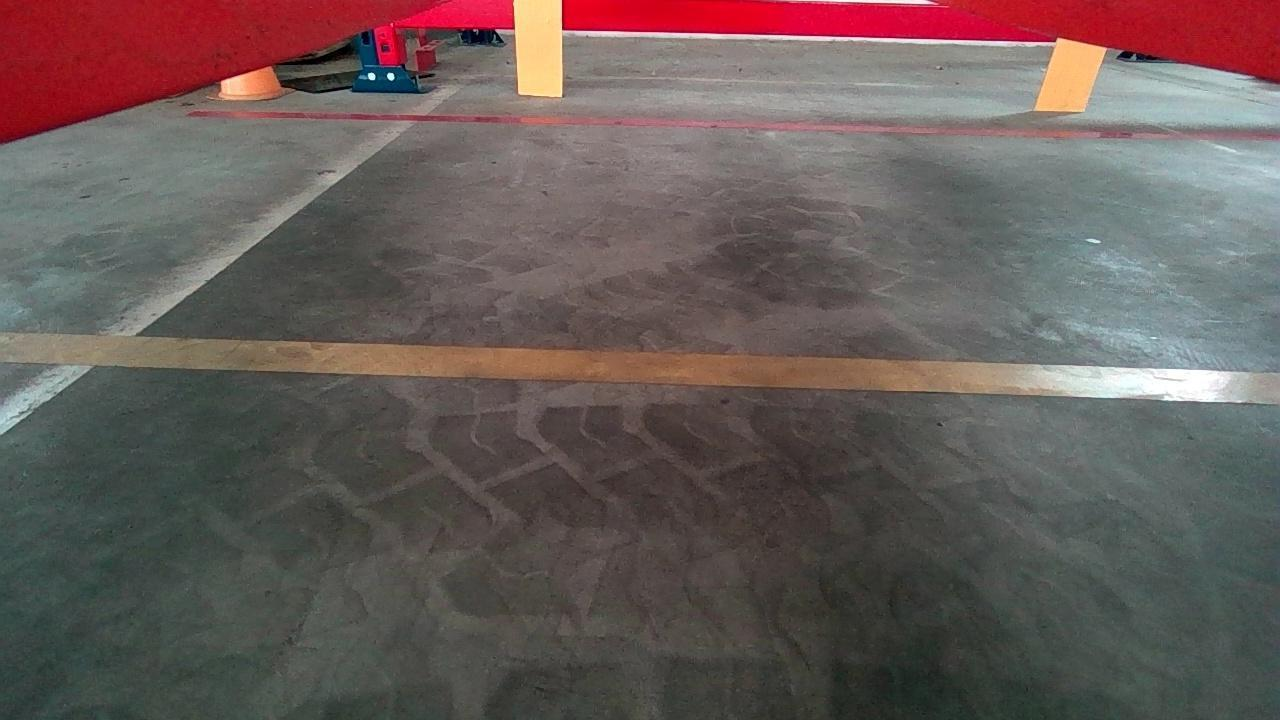h_rack: (400, 0, 1053, 43)
orange_strip: (1035, 41, 1106, 112), (514, 2, 562, 96)
red_line: (186, 107, 1280, 136)
yellow_line: (2, 335, 1280, 403)
